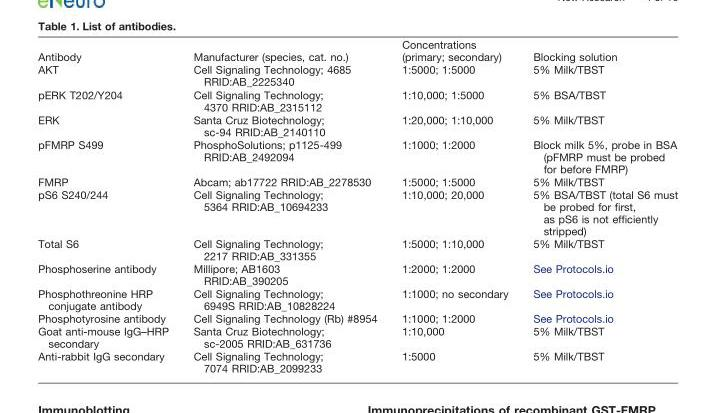table: (37, 37, 677, 373)
table column: (180, 37, 388, 373), (520, 37, 677, 373), (37, 37, 180, 373), (388, 37, 520, 373)
table column header: (37, 37, 677, 62)
table row: (37, 187, 677, 236), (37, 137, 677, 174), (37, 37, 677, 62), (37, 62, 677, 87), (37, 87, 677, 112), (37, 112, 677, 137), (37, 236, 677, 261), (37, 261, 677, 286), (37, 286, 677, 311), (37, 324, 677, 349), (37, 349, 677, 373), (37, 174, 677, 187), (37, 311, 677, 324)
